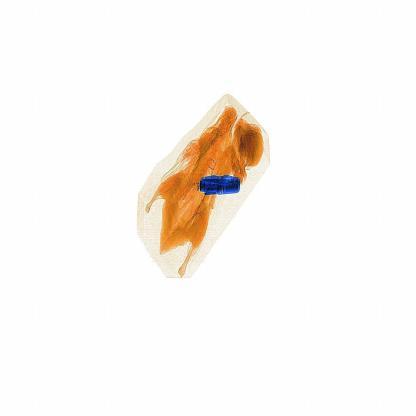scissors: (197, 161, 243, 201)
